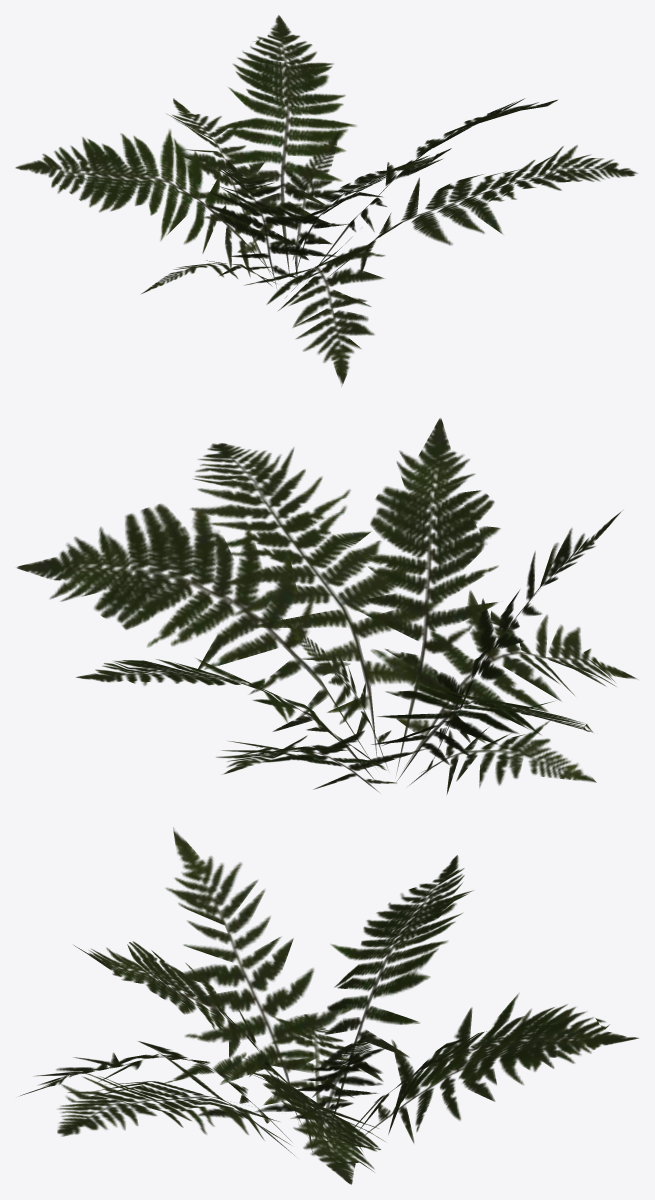
File: veg-45.glb
3 renders of one model, top to bottom at view 1: azimuth 30°, elevation 25°; view 2: azimuth 150°, elevation 25°; view 3: azimuth 270°, elevation 25°, orthographic. The views are drawn at different scales.
Visible parts, largest first — view 1: _9szp_VarH_LOD2_45; view 2: _9szp_VarH_LOD2_45; view 3: _9szp_VarH_LOD2_45.
Part boxes in pixels (x1,y1,x2,y2): _9szp_VarH_LOD2_45: (15,15,637,386); _9szp_VarH_LOD2_45: (16,418,637,794); _9szp_VarH_LOD2_45: (19,827,638,1184).
Size of the model in its own units: 0.6947 by 0.2664 by 0.6063.
Materials: 1 (1 with a texture image).
